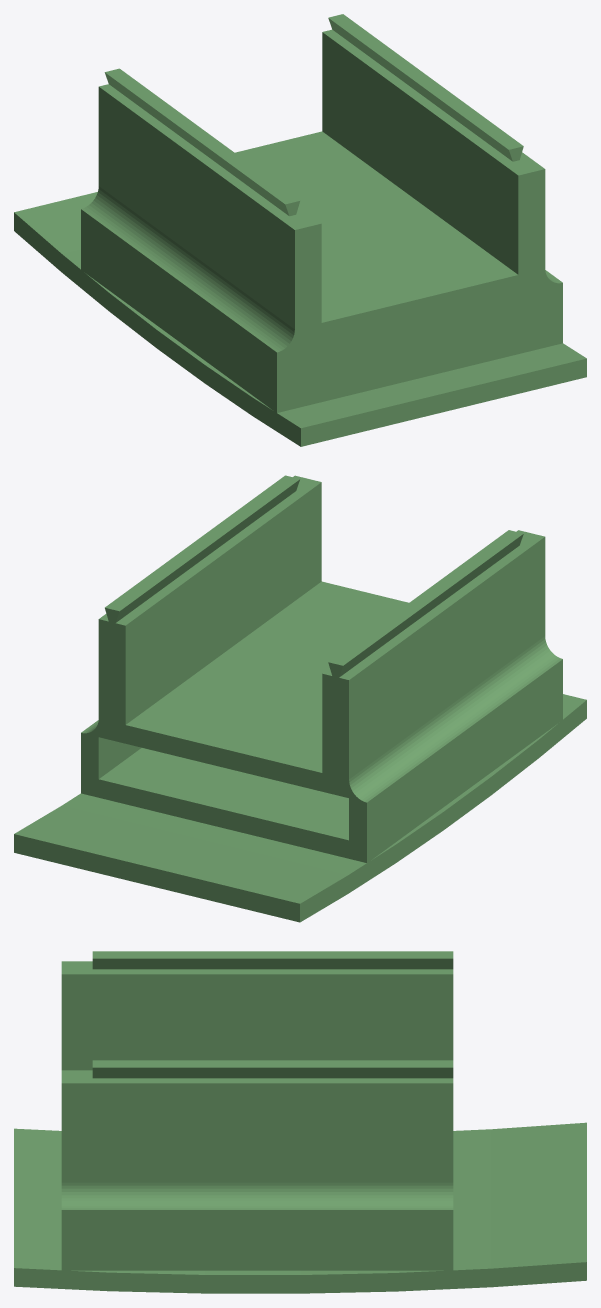
The model's file is FrontPlate.glb.
3 renders of one model, top to bottom at view 1: azimuth 30°, elevation 25°; view 2: azimuth 150°, elevation 25°; view 3: azimuth 270°, elevation 25°, orthographic.
Bounding box in the file's own units: 102 × 73 × 176.
